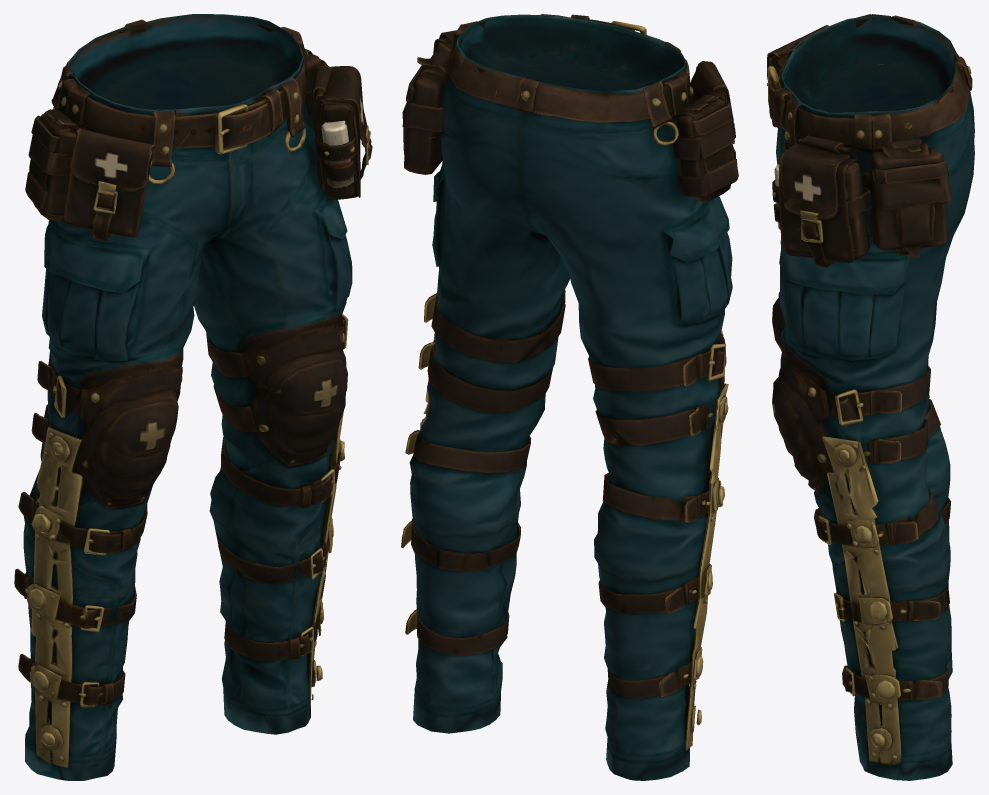
Rendered from Meshy_AI_paramedic_trousers_lp_20261030_texture.fbx.
The picture shows the model from 3 angles, left to right: view 1: azimuth 30°, elevation 25°; view 2: azimuth 150°, elevation 25°; view 3: azimuth 270°, elevation 25°; orthographic projection. The views are drawn at different scales.
Parts seen in each view (by area): view 1: geometry_0; view 2: geometry_0; view 3: geometry_0.
Boxes of the visible parts, x1,y1,x2,y2 form: geometry_0: (14, 14, 372, 780); geometry_0: (401, 14, 738, 780); geometry_0: (767, 14, 974, 780).
Bounding box in the file's own units: 45.85 × 95.21 × 27.34.
1 material, 1 textured.
